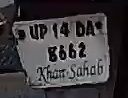1: (50, 21, 60, 39)
2: (76, 41, 88, 59)
4: (60, 21, 71, 39)
6: (58, 45, 67, 61), (68, 43, 77, 59)
8: (46, 43, 58, 63)
A: (85, 18, 97, 38)
D: (74, 19, 85, 40)
P: (38, 23, 48, 40)
U: (28, 22, 39, 40)
